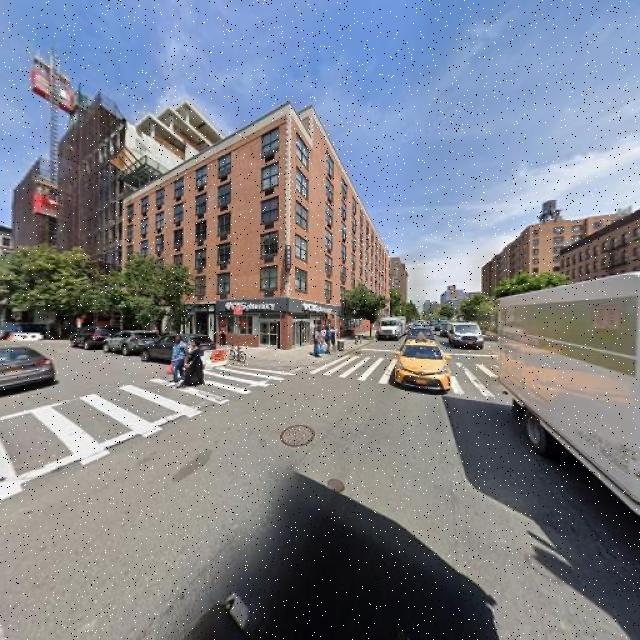Building: (127, 70, 390, 348)
